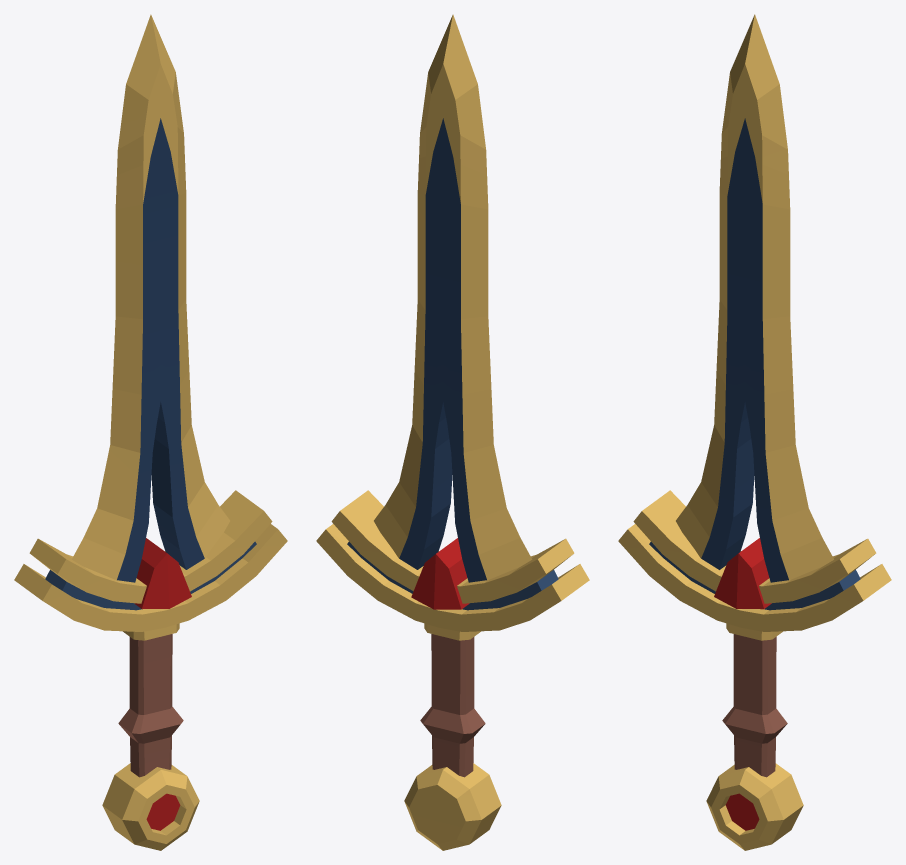
File: Sword_H.fbx
3 views of the same model, side by side, from view 1: azimuth 30°, elevation 25°; view 2: azimuth 150°, elevation 25°; view 3: azimuth 330°, elevation 25° (orthographic).
Visible parts, largest first — view 1: Sword_H; view 2: Sword_H; view 3: Sword_H.
Boxes of the visible parts, x1=… form: Sword_H: x1=14, y1=14, x2=287, y2=850; Sword_H: x1=316, y1=14, x2=589, y2=850; Sword_H: x1=618, y1=14, x2=891, y2=850.
Bounding box in the file's own units: 28.9 × 93.37 × 7.66.
